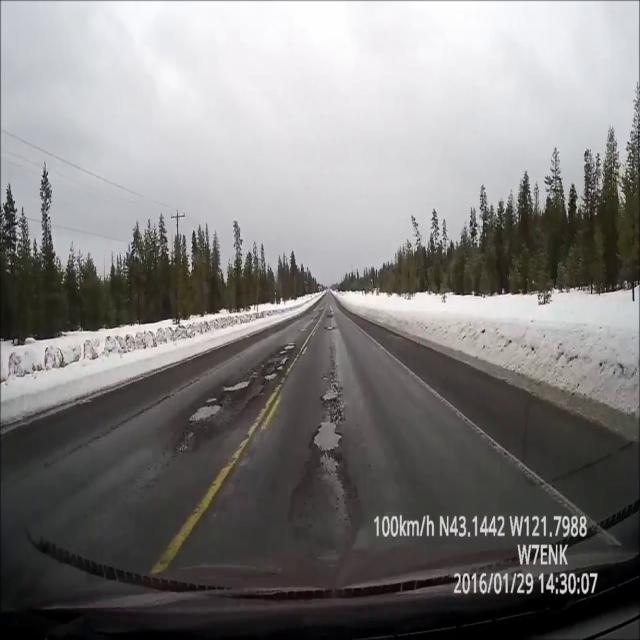Pothole: (297, 455, 359, 542), (312, 423, 342, 449), (187, 403, 221, 425), (222, 377, 251, 392), (322, 386, 341, 401), (276, 355, 288, 371), (280, 343, 296, 354), (264, 372, 277, 381), (328, 326, 335, 331), (299, 327, 306, 332), (328, 314, 332, 318)
